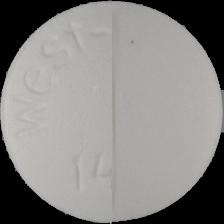0440-7183: (0, 0, 224, 224)
